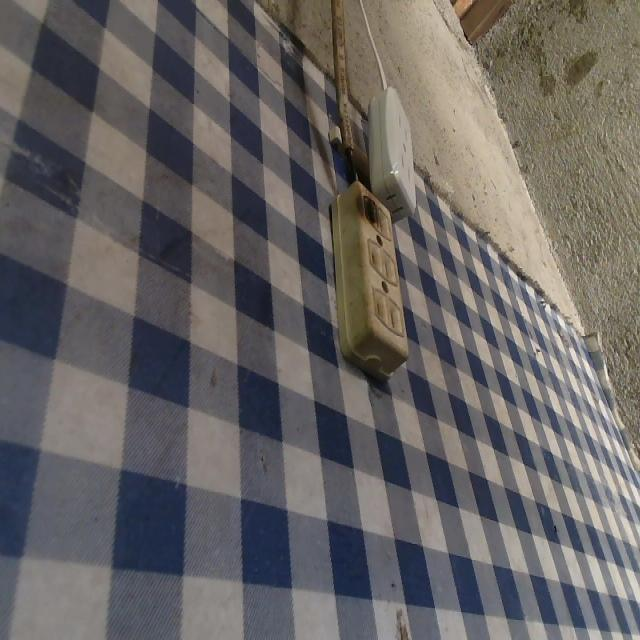-: (355, 181, 380, 232)
